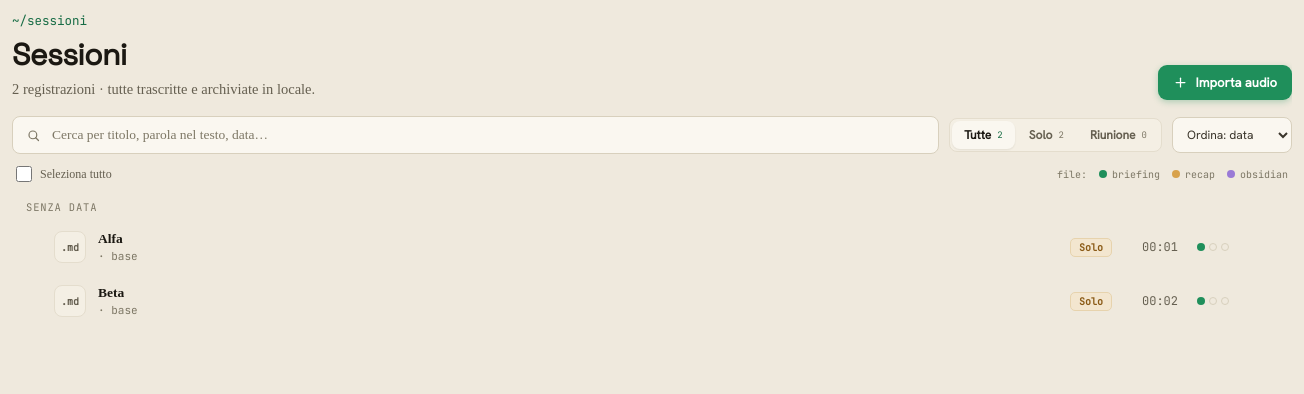
Test case: ScreenSessions multi-select › seleziona righe e abilita Elimina N
This screenshot has width=1304, height=394.
Expected: the text "Alfa" is shown, top-left (98, 231), bottom-right (123, 247)
Click the 1st checkbox labelled ".md Alfa · base Solo 00:01". click: (70, 247)
box: top-left (54, 231), bottom-right (1229, 263)
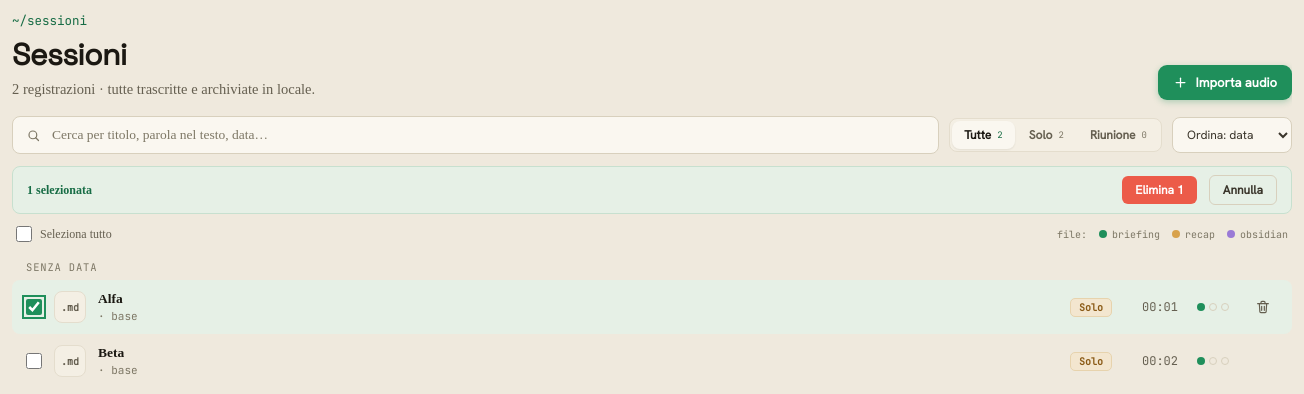
Expected: the button "Elimina 1" is shown, top-left (1122, 176), bottom-right (1197, 204)
